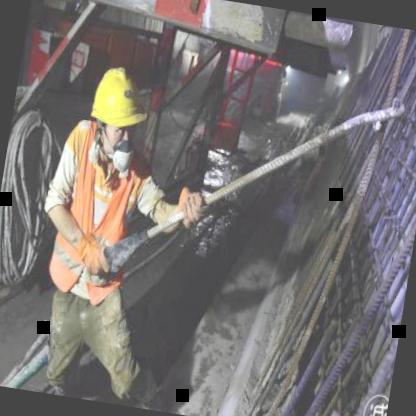helmet: (83, 60, 147, 166)
